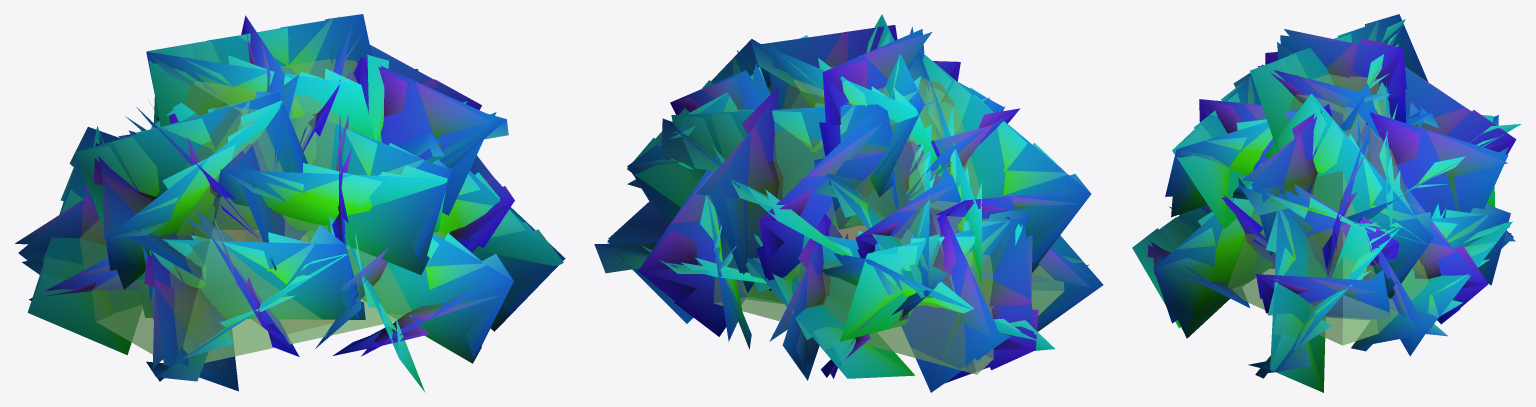
Rendered from generibush_small.dae.
3 views of the same model, side by side, from view 1: azimuth 30°, elevation 25°; view 2: azimuth 150°, elevation 25°; view 3: azimuth 270°, elevation 25° (orthographic). The views are drawn at different scales.
Visible parts, largest first — view 1: generibush_small_a160, generibush_small_a500, Colmesh-1; view 2: generibush_small_a160, generibush_small_a500, Colmesh-1; view 3: generibush_small_a500, generibush_small_a160, Colmesh-1.
Part boxes in pixels (box(x1,y1,x2,y2)): generibush_small_a160: box(18, 14, 565, 390); generibush_small_a500: box(15, 14, 564, 391); Colmesh-1: box(79, 59, 445, 362); generibush_small_a160: box(596, 14, 1103, 392); generibush_small_a500: box(594, 15, 1102, 390); Colmesh-1: box(713, 66, 1064, 374); generibush_small_a500: box(1132, 14, 1520, 392); generibush_small_a160: box(1151, 14, 1520, 392); Colmesh-1: box(1227, 74, 1428, 345).
Size of the model in its own units: 3.38 by 2.75 by 2.09.
